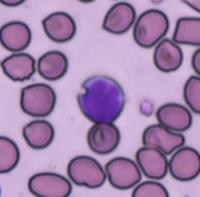L: (77, 74, 125, 122)
